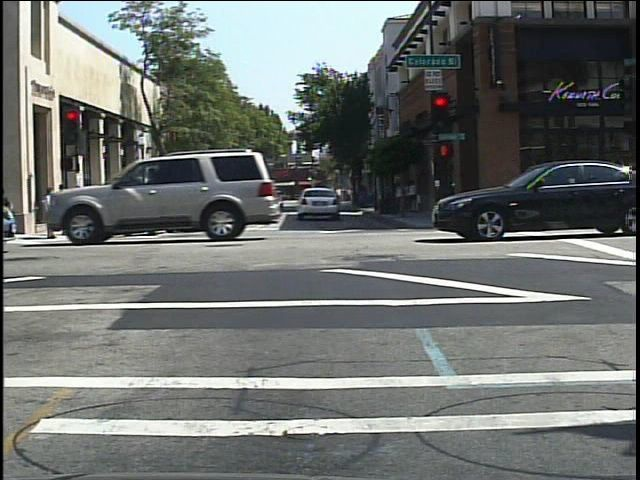person: (178, 181, 195, 219), (132, 185, 147, 215)
